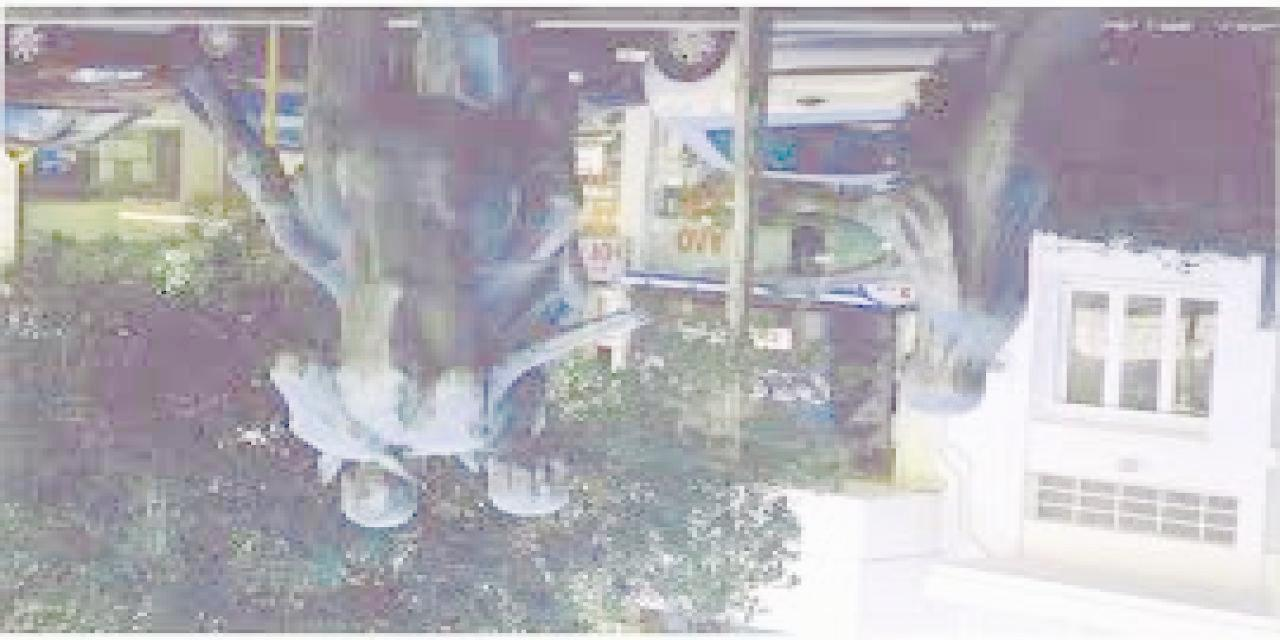Aretousa: (178, 1, 1091, 528)
